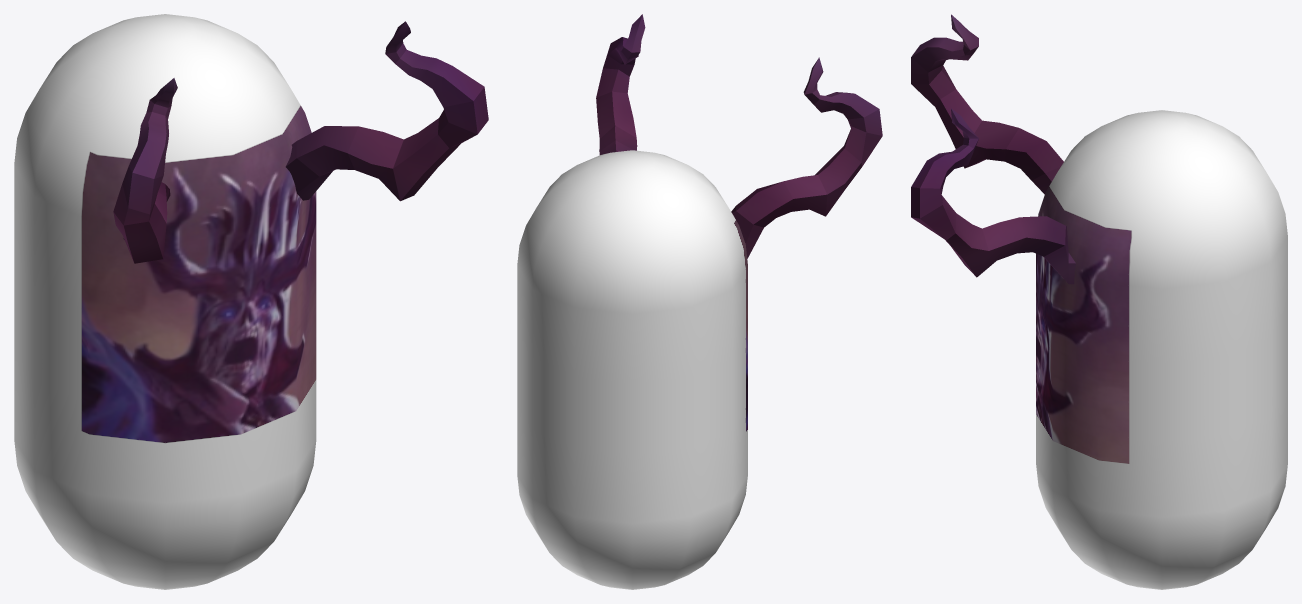
Rendered from capsule2pog.glb.
3 views of the same model, side by side, from view 1: azimuth 30°, elevation 25°; view 2: azimuth 150°, elevation 25°; view 3: azimuth 270°, elevation 25° (orthographic). The views are drawn at different scales.
Parts seen in each view (by area): view 1: Lich; view 2: Lich; view 3: Lich.
Boxes of the visible parts, <box> form: Lich: <box>14,14,488,589</box>; Lich: <box>517,14,882,589</box>; Lich: <box>911,14,1287,589</box>.
Size of the model in its own units: 0.0276 by 0.0453 by 0.0299.
Materials: 1 (1 with a texture image).
